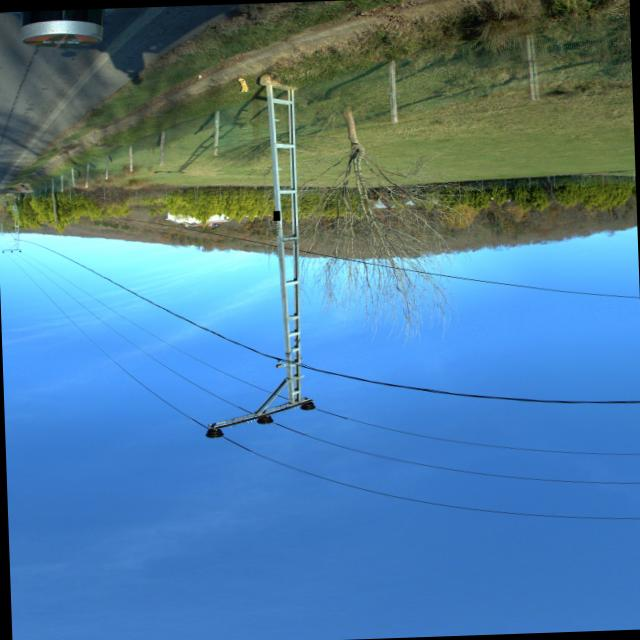Utility Pole Information Plate: (272, 210, 279, 219)
